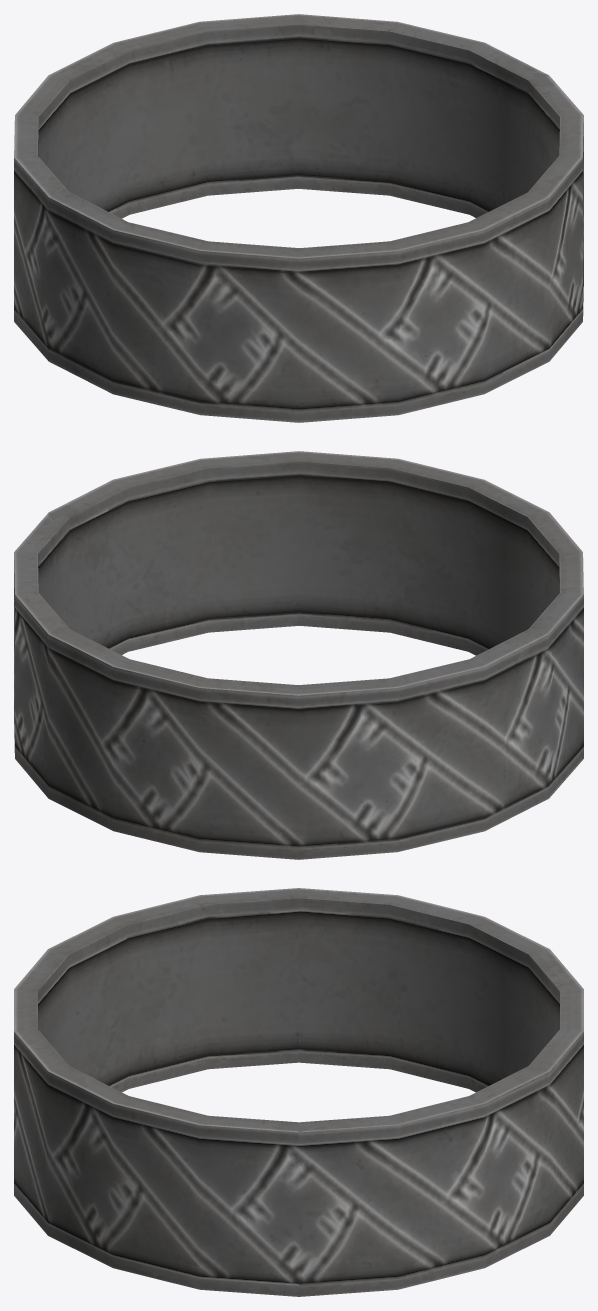
Rendered from Ring1.FBX.
3 views of the same model, one above another, from view 1: azimuth 30°, elevation 25°; view 2: azimuth 150°, elevation 25°; view 3: azimuth 270°, elevation 25° (orthographic).
Visible parts, largest first — view 1: Ring1; view 2: Ring1; view 3: Ring1.
Boxes of the visible parts, x1,y1,x2,y2 form: Ring1: [14, 14, 583, 422]; Ring1: [14, 451, 583, 859]; Ring1: [14, 888, 583, 1296].
Bounding box in the file's own units: 0.0193 × 0.019 × 0.00606.
